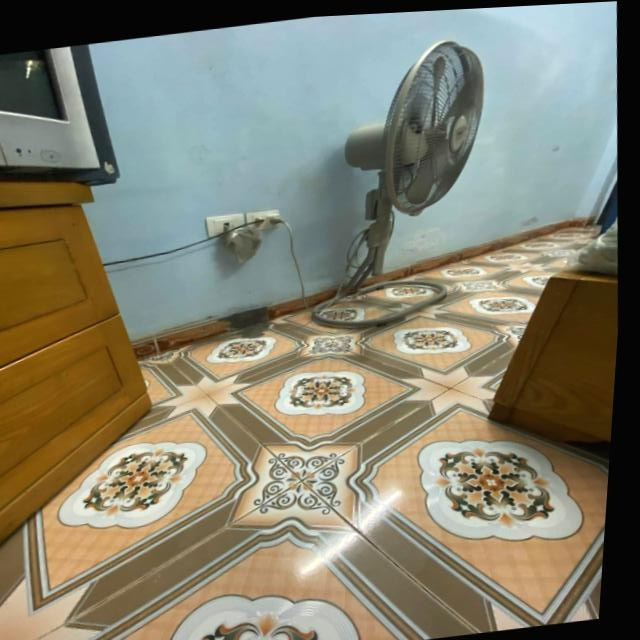outlet: (205, 212, 248, 239), (245, 208, 284, 232)
